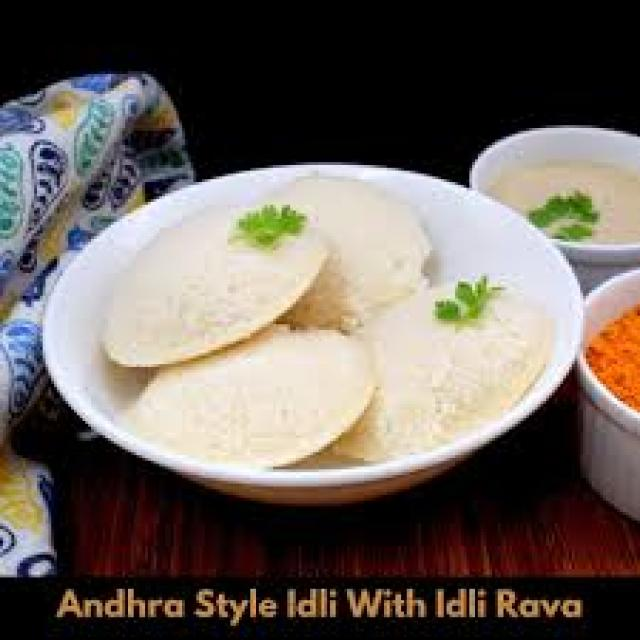IDLI: (343, 277, 565, 465), (119, 323, 374, 472), (98, 201, 318, 363), (271, 171, 435, 334)
